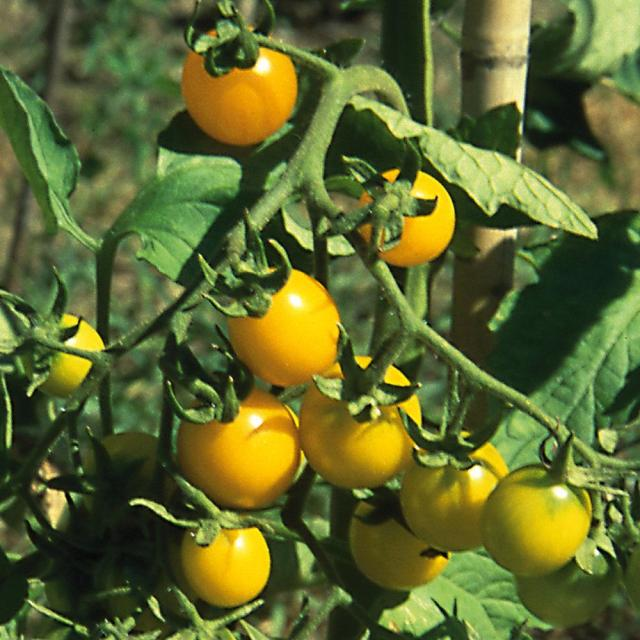level 3: (488, 468, 592, 575), (29, 319, 112, 389)
level 4: (171, 386, 303, 512), (302, 362, 424, 486), (397, 436, 508, 557), (181, 34, 298, 146), (236, 261, 345, 379), (356, 492, 446, 598), (367, 170, 458, 258), (187, 519, 269, 607)
